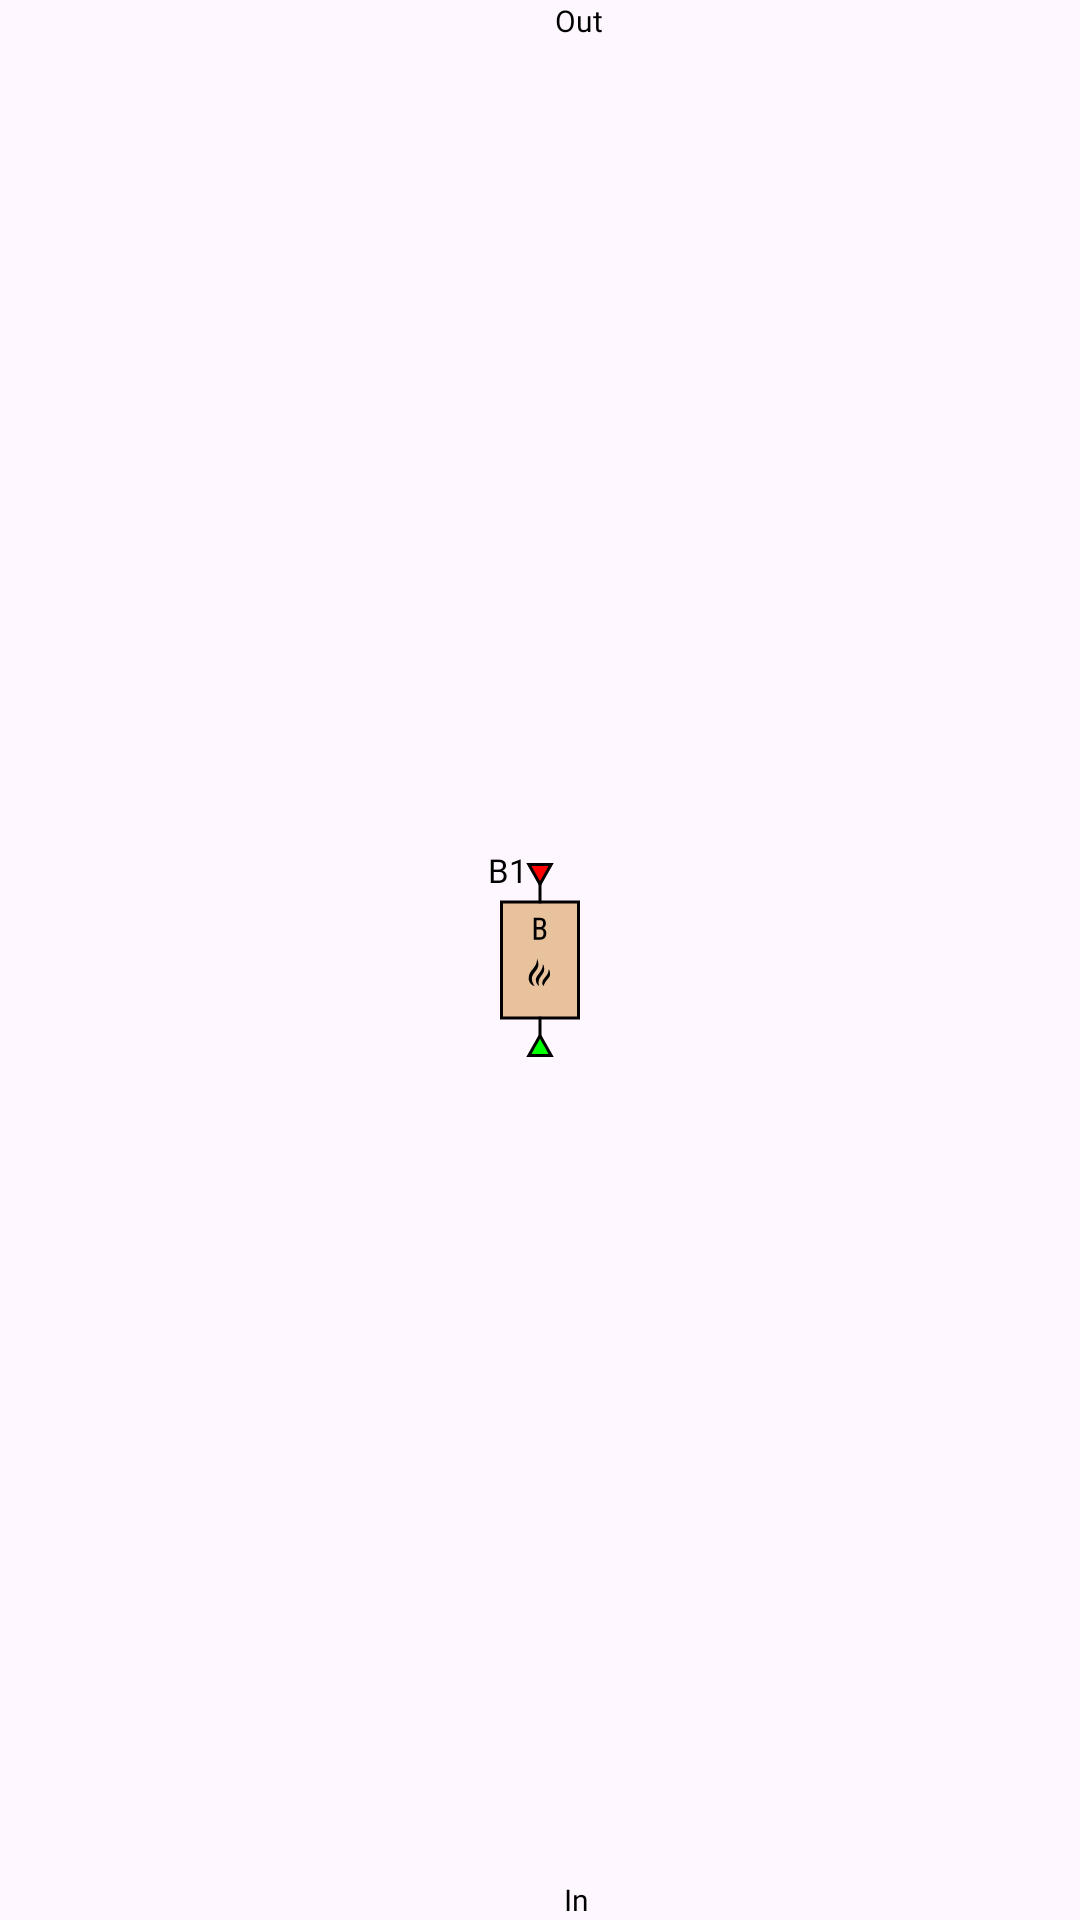

Icon click points for this 1080×1920 phone screenshot, format (x,y):
heater: (535,958)
